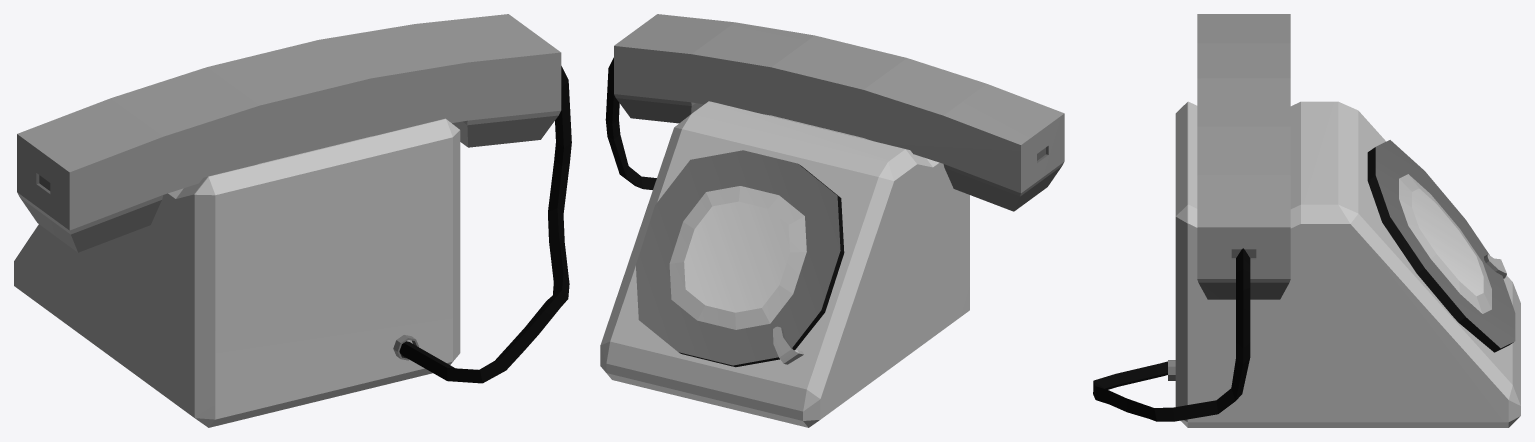
The model's file is RotaryPhoneModel.fbx.
The picture shows the model from 3 angles, left to right: view 1: azimuth 30°, elevation 25°; view 2: azimuth 150°, elevation 25°; view 3: azimuth 270°, elevation 25°; orthographic projection. The views are drawn at different scales.
Parts seen in each view (by area): view 1: RotaryPhoneModel; view 2: RotaryPhoneModel; view 3: RotaryPhoneModel.
Boxes of the visible parts, bbox=[...] form: RotaryPhoneModel: bbox=[14, 14, 571, 427]; RotaryPhoneModel: bbox=[600, 14, 1064, 427]; RotaryPhoneModel: bbox=[1093, 14, 1520, 427].
Size of the model in its own units: 71.55 by 39.46 by 56.42.
